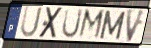M: (76, 8, 106, 42), (98, 9, 127, 41)
U: (60, 7, 84, 40), (19, 5, 43, 38)
V: (125, 8, 147, 44)
X: (37, 7, 65, 40)
